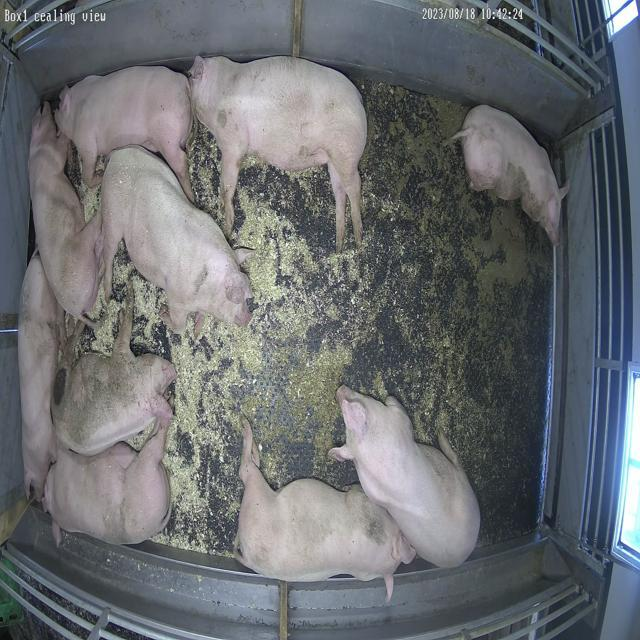Dirt: (280, 88, 552, 544), (372, 336, 378, 356)
Pig: (190, 56, 368, 250), (234, 420, 416, 602), (101, 146, 252, 332), (330, 387, 481, 568), (55, 292, 179, 453), (51, 297, 176, 456), (54, 66, 192, 200), (452, 105, 570, 244), (44, 419, 171, 546), (30, 103, 102, 318), (20, 257, 66, 506)
